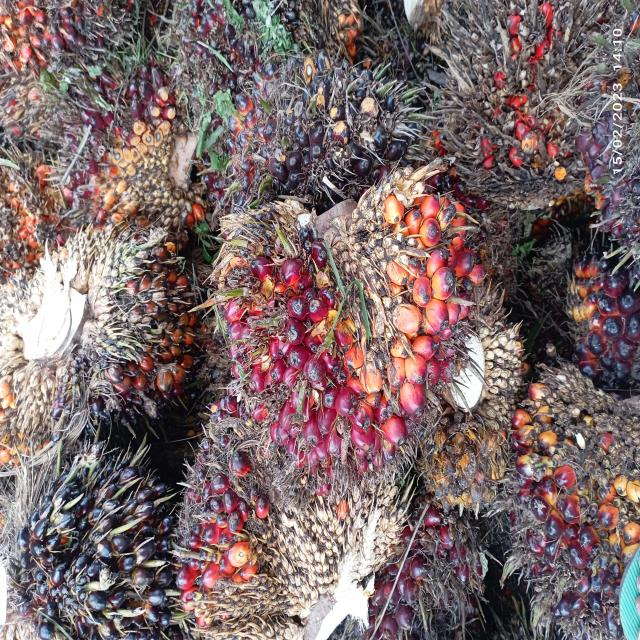fraksi 00: (0, 413, 212, 640), (198, 27, 420, 227)
fraksi 1: (145, 372, 380, 640)
fraksi 3: (203, 178, 491, 506)
fraksi 4: (434, 0, 612, 227)
